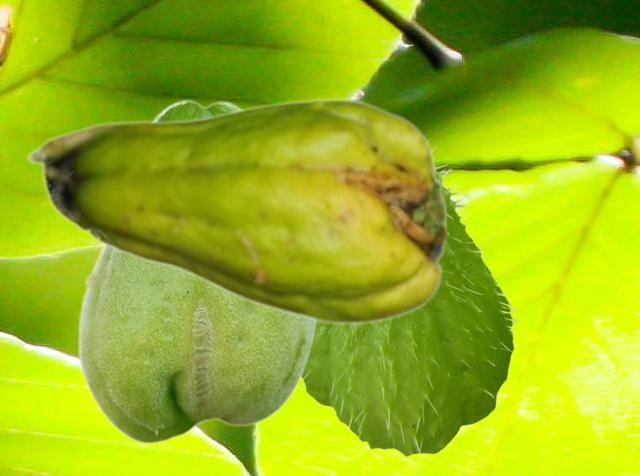sayote: (25, 97, 445, 325), (76, 98, 317, 443), (301, 138, 520, 456)
